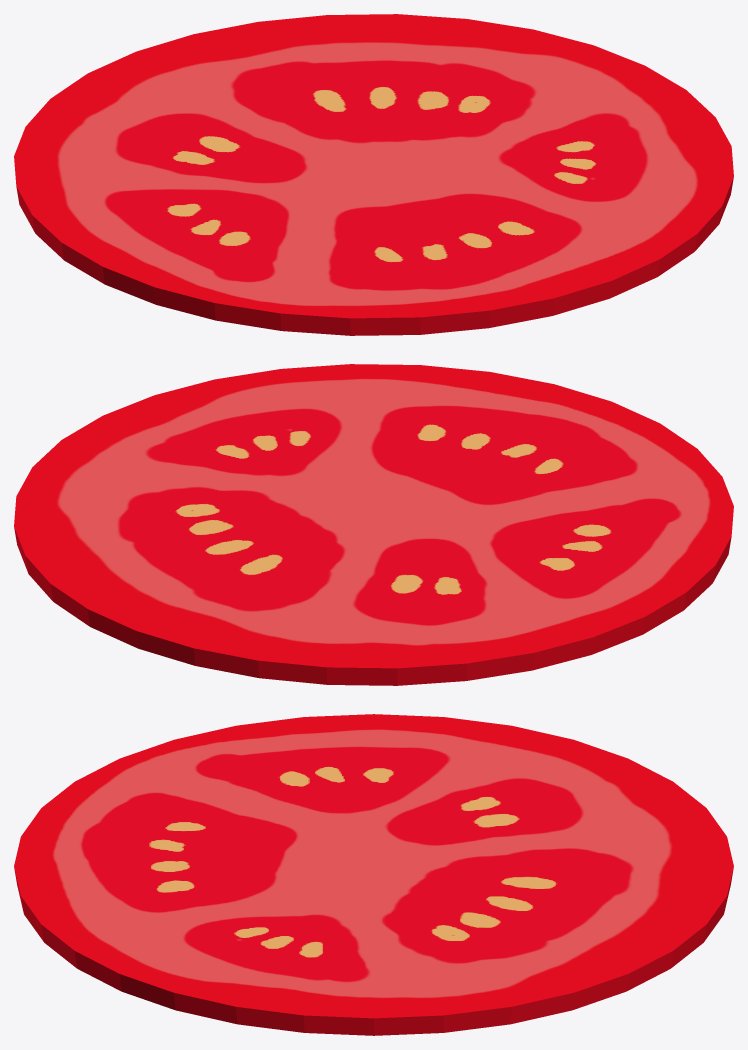
The model's file is tomato.fbx.
3 renders of one model, top to bottom at view 1: azimuth 30°, elevation 25°; view 2: azimuth 150°, elevation 25°; view 3: azimuth 270°, elevation 25°, orthographic.
Parts seen in each view (by area): view 1: Tomato; view 2: Tomato; view 3: Tomato.
Part boxes in pixels (x1=…): Tomato: x1=14, y1=14, x2=733, y2=335; Tomato: x1=14, y1=364, x2=733, y2=685; Tomato: x1=14, y1=714, x2=733, y2=1035.
Bounding box in the file's own units: 86.22 × 2.48 × 86.22.
